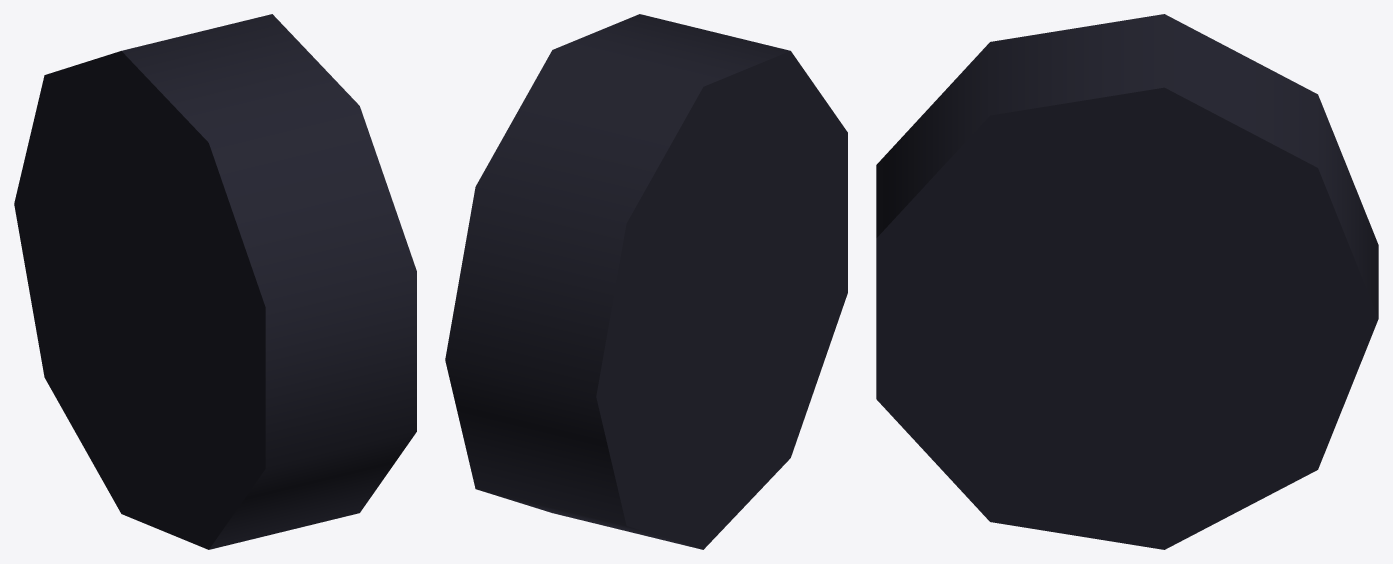
The model's file is Pipe_1_A_4.glb.
3 views of the same model, side by side, from view 1: azimuth 30°, elevation 25°; view 2: azimuth 150°, elevation 25°; view 3: azimuth 270°, elevation 25° (orthographic).
Visible parts, largest first — view 1: Pipe_1_A_4; view 2: Pipe_1_A_4; view 3: Pipe_1_A_4.
Part boxes in pixels (x1=…): Pipe_1_A_4: x1=14, y1=14, x2=416, y2=549; Pipe_1_A_4: x1=445, y1=14, x2=847, y2=549; Pipe_1_A_4: x1=876, y1=14, x2=1378, y2=549.
Size of the model in its own units: 0.1028 by 0.3012 by 0.2966.
Materials: 1 (1 with a texture image).
